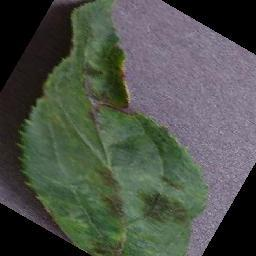apple healthy: (15, 0, 210, 255)
